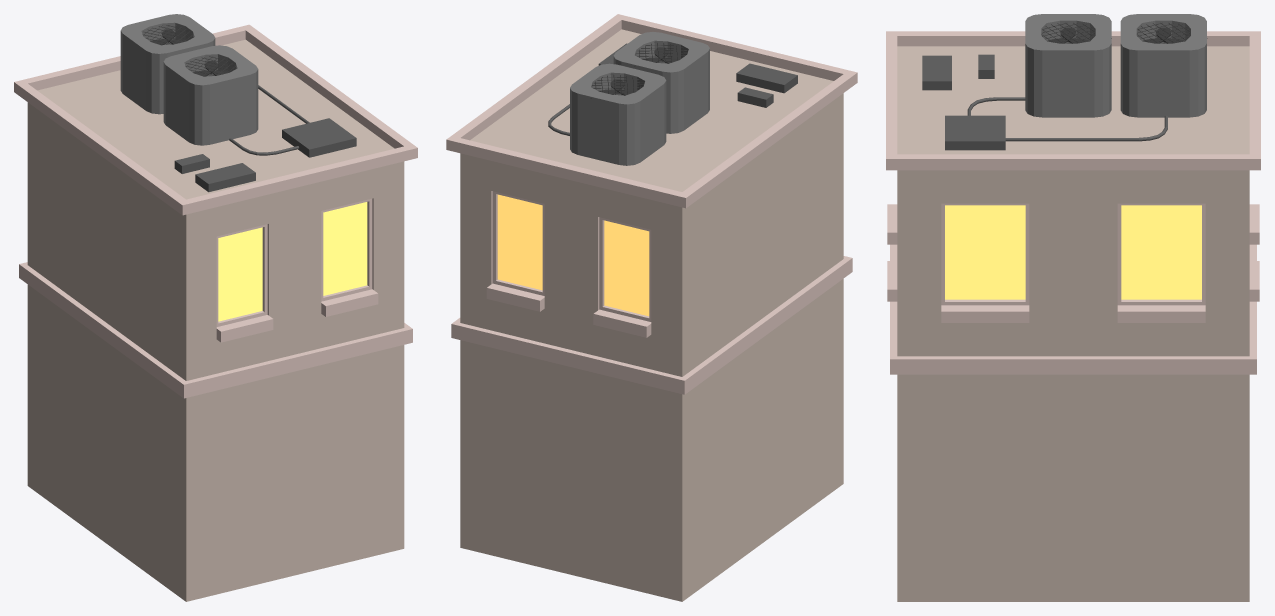
Rendered from apartmentBuilding.fbx.
3 views of the same model, side by side, from view 1: azimuth 30°, elevation 25°; view 2: azimuth 150°, elevation 25°; view 3: azimuth 270°, elevation 25° (orthographic). The views are drawn at different scales.
Parts seen in each view (by area): view 1: ac2; view 2: ac2; view 3: ac2.
Boxes of the visible parts, bbox=[...] form: ac2: bbox=[14, 14, 417, 601]; ac2: bbox=[446, 14, 857, 601]; ac2: bbox=[886, 14, 1260, 601].
Size of the model in its own units: 514 by 949 by 637.
